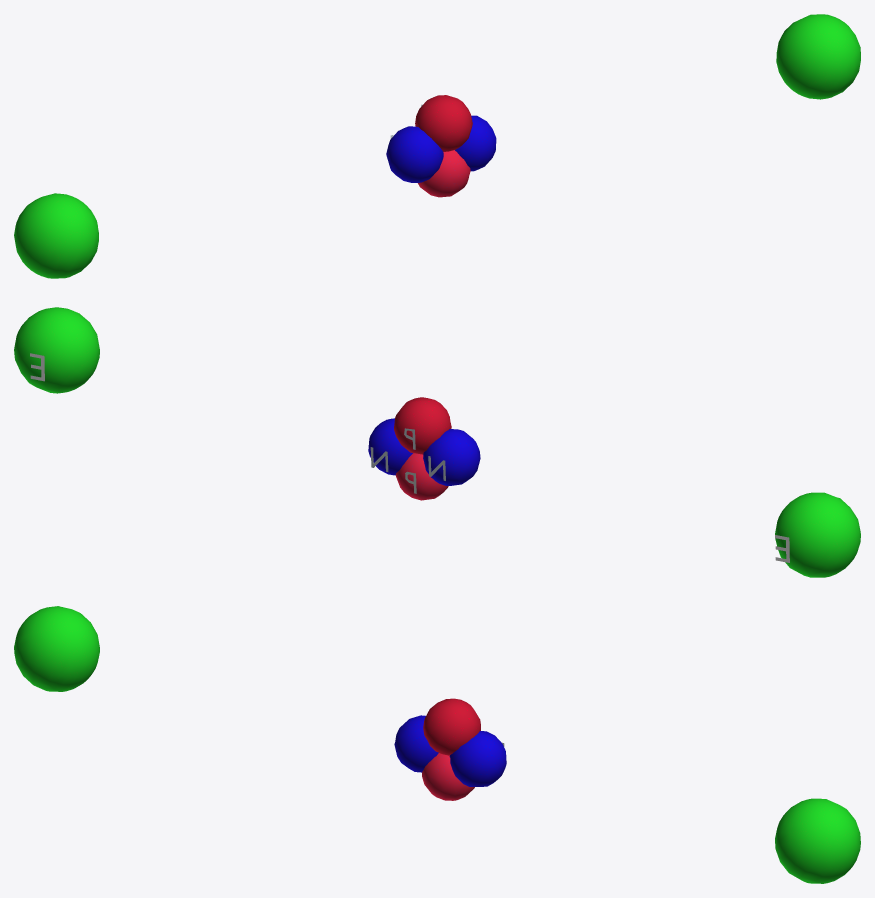
File: labeled_atom.glb
The picture shows the model from 3 angles, top to bottom: view 1: azimuth 30°, elevation 25°; view 2: azimuth 150°, elevation 25°; view 3: azimuth 330°, elevation 25°; orthographic projection.
Parts seen in each view (by area): view 1: Sphere.001; view 2: Sphere.001; view 3: Sphere.001.
Boxes of the visible parts, x1,y1,x2,y2 form: Sphere.001: (14,14,860,278); Sphere.001: (14,307,860,577); Sphere.001: (14,606,860,883).
Size of what is drawn, in the model's own units: 6.64 by 0.7351 by 0.635.
Materials: 1 (1 with a texture image).
